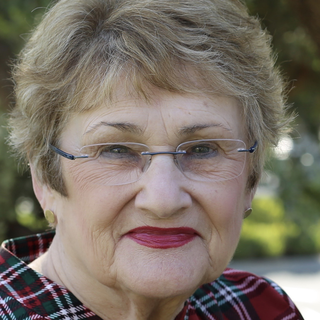eye: (179, 135, 225, 163), (96, 139, 140, 167)
